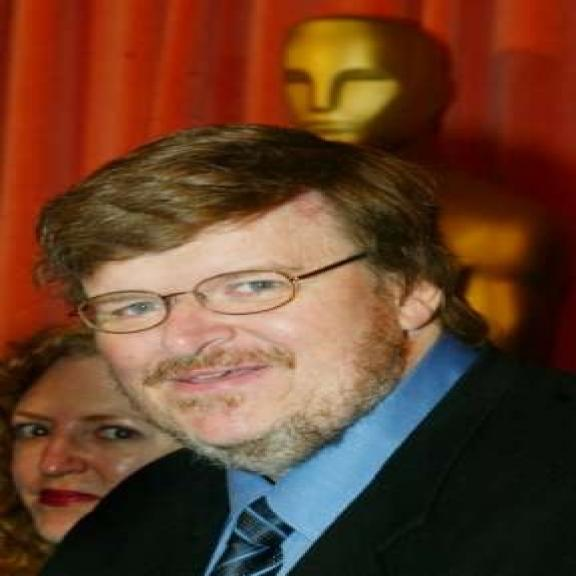face: (61, 197, 451, 440), (8, 363, 178, 552)
